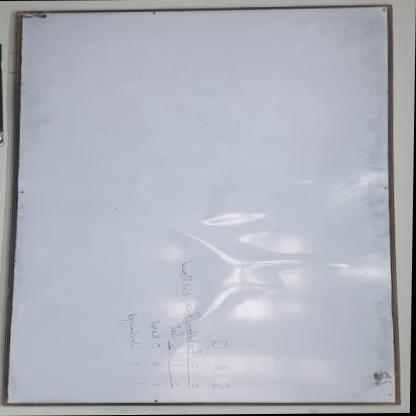Handwritten text: (208, 336, 235, 392), (115, 308, 146, 351), (169, 256, 200, 296), (184, 323, 206, 353), (176, 300, 205, 318), (148, 317, 166, 341), (169, 322, 189, 338)
Whiteboard: (7, 5, 398, 404)
